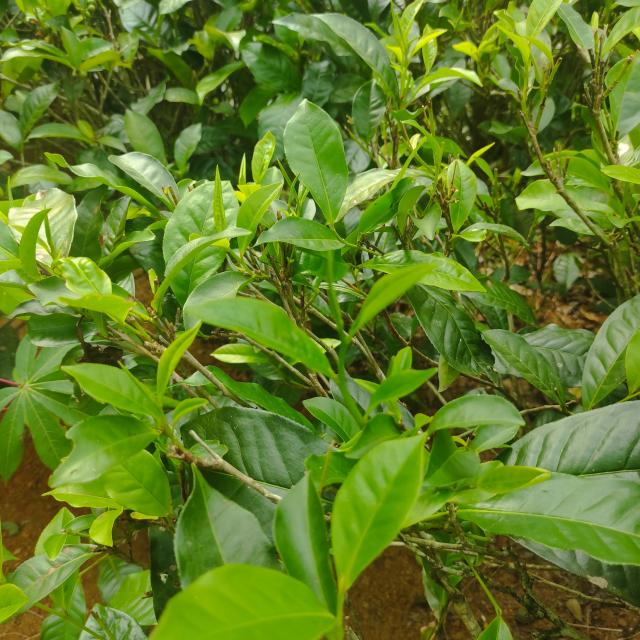unopened_leaf: (111, 353, 166, 417), (208, 160, 230, 240), (384, 3, 414, 58), (40, 202, 62, 262), (282, 167, 308, 213), (270, 154, 298, 190)
